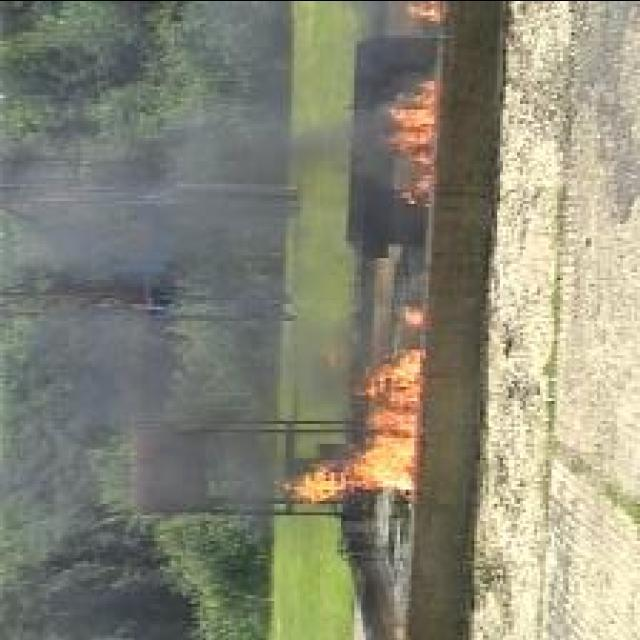Fire: (283, 348, 423, 502), (382, 68, 434, 202)
